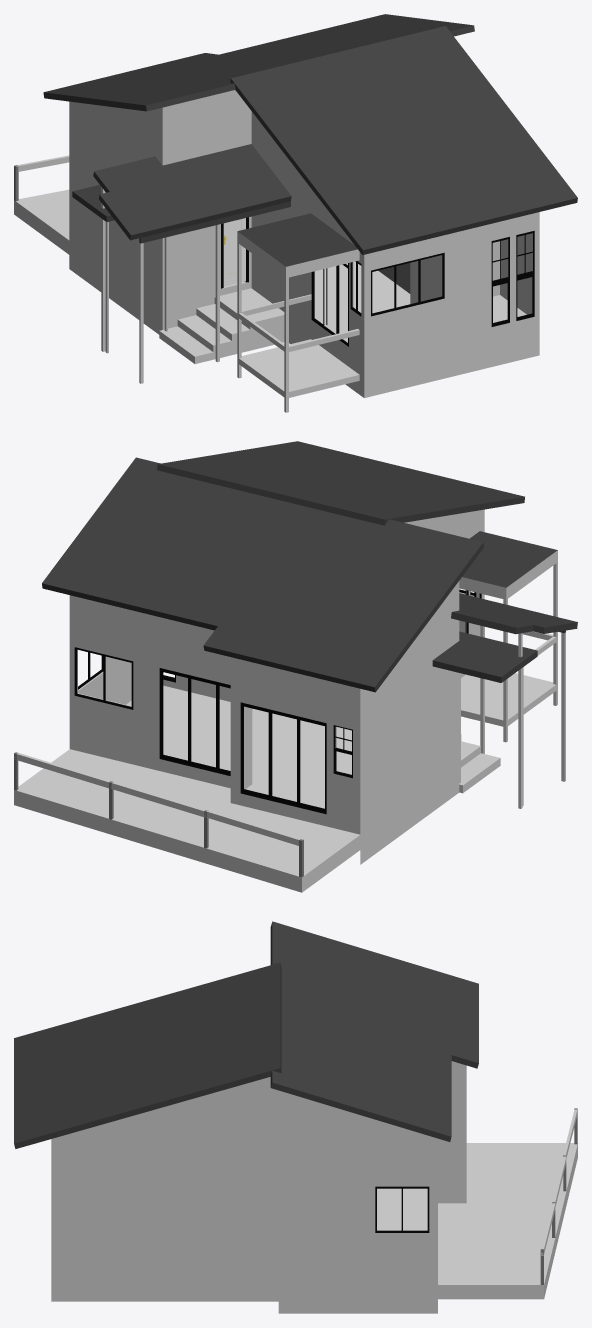
Rendered from apartment-model.gltf.
3 renders of one model, top to bottom at view 1: azimuth 30°, elevation 25°; view 2: azimuth 150°, elevation 25°; view 3: azimuth 270°, elevation 25°, orthographic. The views are drawn at different scales.
Parts seen in each view (by area): view 1: object 9, object 6, object 5, object 8, object 4, object 18, object 45, object 7, object 11, object 17, object 3, Single Window#3 (×2) (+7 smaller); view 2: object 8, object 6, object 5, object 9, object 18, object 17, object 7, object 4, object 20, object 45, object 3, object 21 (+8 smaller); view 3: object 6, object 5, object 8, object 9, object 10, object 14, object 13, Double windows#1.
Part boxes in pixels (x1,y1,x2,y2): object 9: (230, 26, 577, 254); object 6: (69, 90, 539, 363); object 5: (14, 189, 539, 397); object 8: (43, 14, 474, 111); object 4: (93, 144, 291, 240); object 18: (237, 213, 359, 412); object 45: (159, 288, 284, 363); object 7: (237, 339, 359, 398); object 11: (85, 103, 160, 159); object 17: (72, 185, 167, 353); object 3: (139, 224, 219, 383); Single Window#3 (×2): (491, 230, 534, 326); object 8: (42, 457, 483, 692); object 6: (69, 509, 484, 828); object 5: (14, 673, 465, 892); object 9: (157, 441, 524, 525); object 18: (459, 531, 557, 742); object 17: (432, 631, 537, 805); object 7: (461, 673, 557, 727); object 4: (451, 593, 577, 634); object 20: (14, 753, 207, 817); object 45: (459, 734, 500, 793); object 3: (480, 625, 565, 781); object 21: (518, 633, 522, 808); object 6: (51, 1061, 466, 1279); object 5: (51, 1143, 577, 1313); object 8: (270, 921, 478, 1141); object 9: (14, 962, 281, 1148); object 10: (278, 1090, 431, 1140); object 14: (89, 1107, 278, 1128); object 13: (164, 1077, 278, 1107); Double windows#1: (375, 1186, 429, 1232).
Bounding box in the file's own units: 10.58 × 6.49 × 13.49.
Materials: 7 (1 with a texture image).
